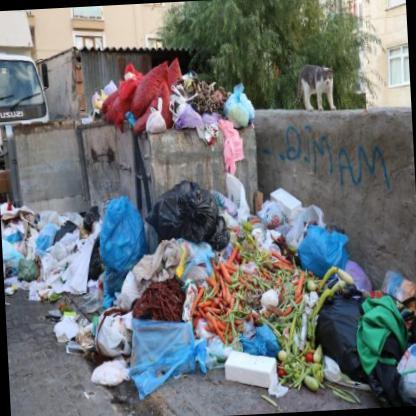Garbage: (236, 238, 415, 396), (265, 263, 415, 404), (81, 48, 264, 136), (126, 312, 212, 392), (312, 278, 372, 361), (147, 174, 215, 242), (304, 212, 368, 272), (41, 229, 97, 296), (99, 200, 145, 270), (283, 191, 325, 266), (176, 72, 228, 130), (54, 303, 100, 366), (121, 59, 174, 105), (102, 301, 134, 370), (385, 345, 415, 405), (220, 180, 252, 226), (218, 112, 242, 171), (15, 254, 62, 283), (219, 116, 242, 170), (193, 108, 224, 138), (259, 196, 277, 223), (42, 217, 62, 240)
